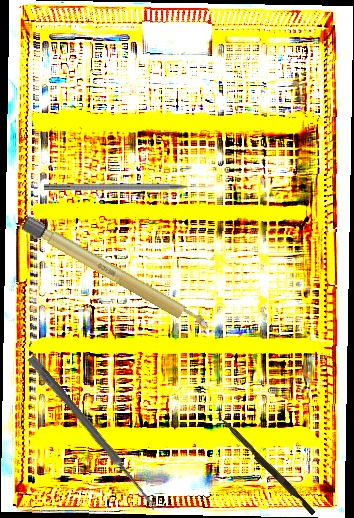Hook Surgical: (44, 183, 213, 192)
Pusher: (214, 415, 319, 516)
Scalpel Handle: (19, 214, 214, 337)
Surgical Spoon: (26, 354, 160, 512)
